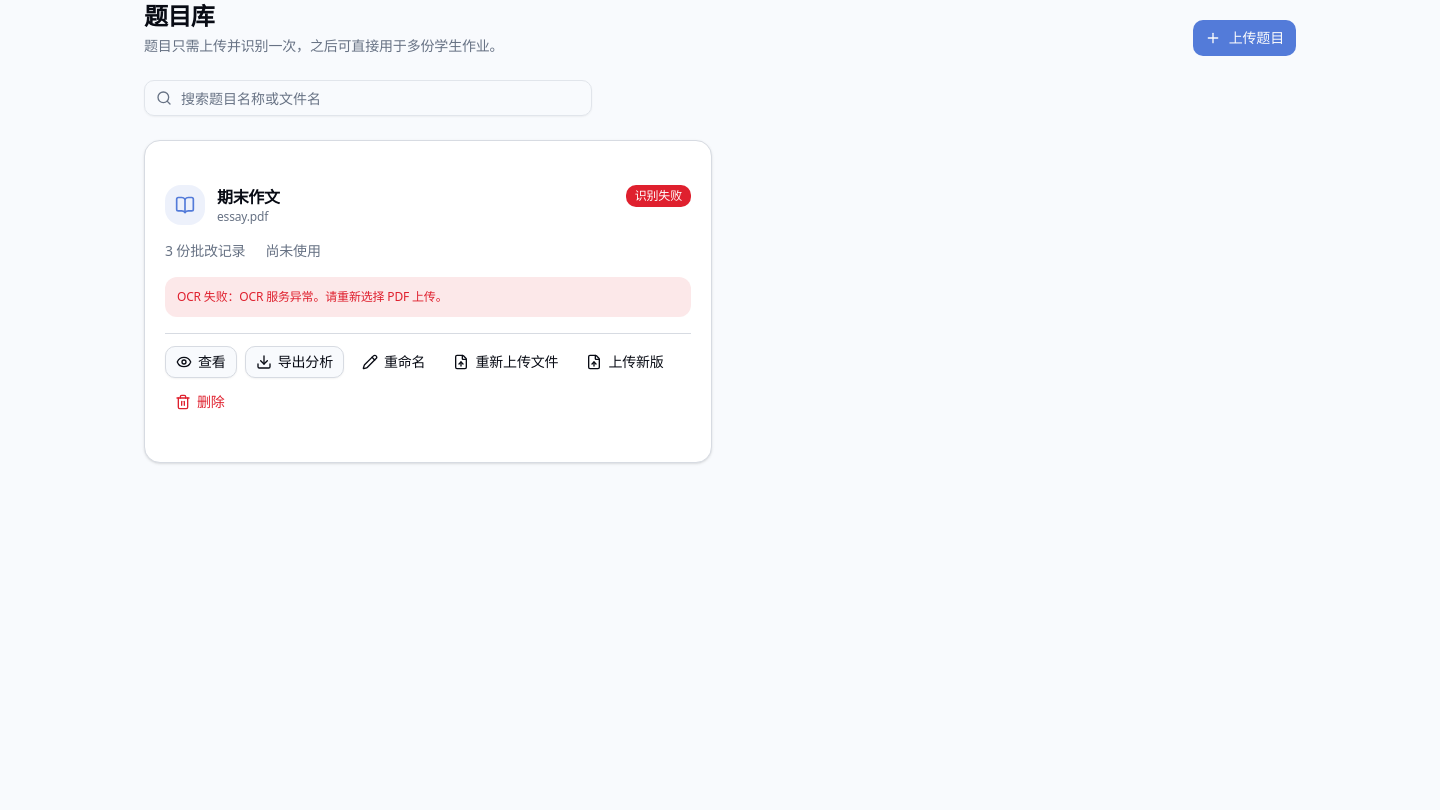
QuestionsPage › 拒绝超出范围的及格线
Click the button "导出分析" at [294, 362], box x1=245 y1=346 x2=344 y2=378
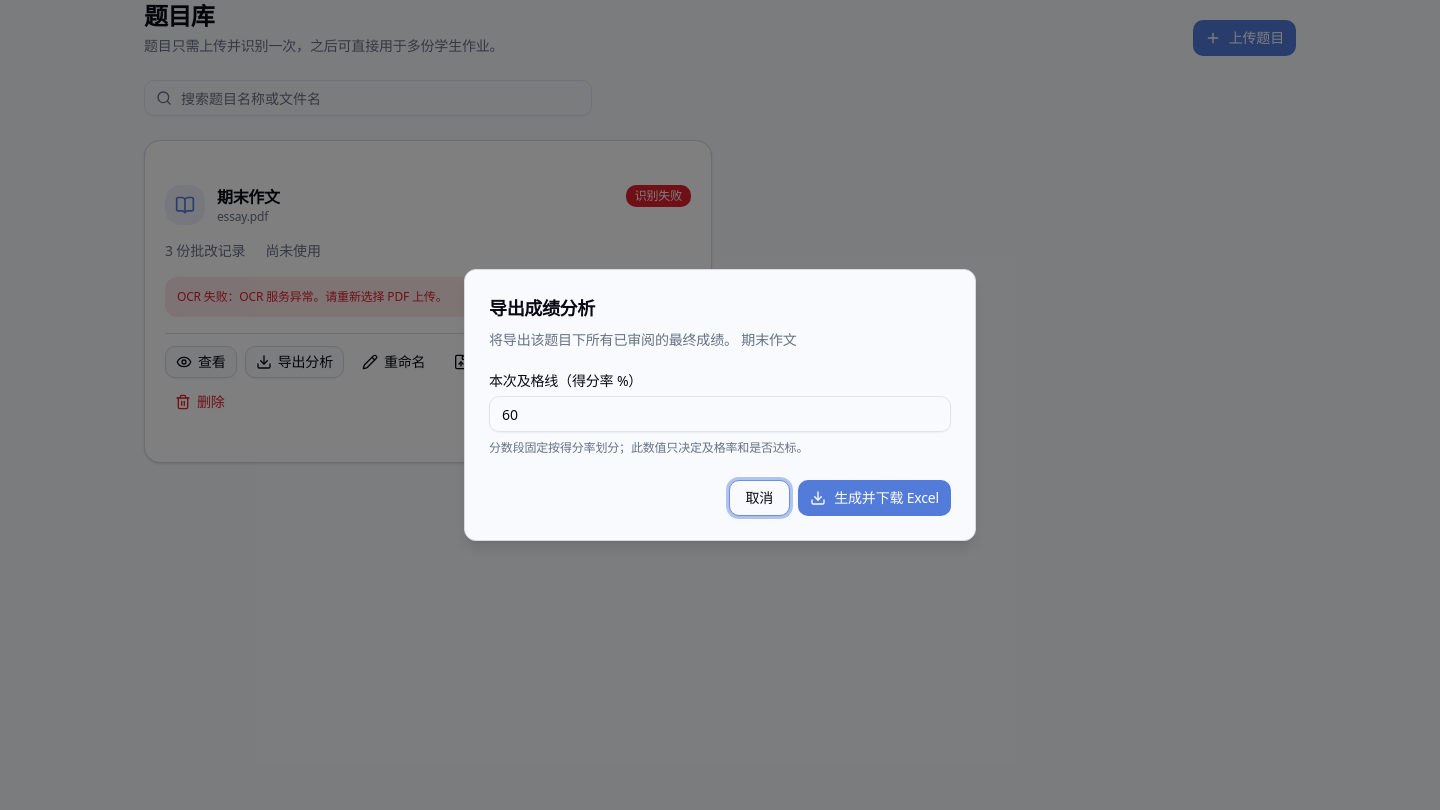
Replace the text in the number field labelled "本次及格线（得分率 %）" with "101" at [720, 414], box x1=489 y1=396 x2=951 y2=432
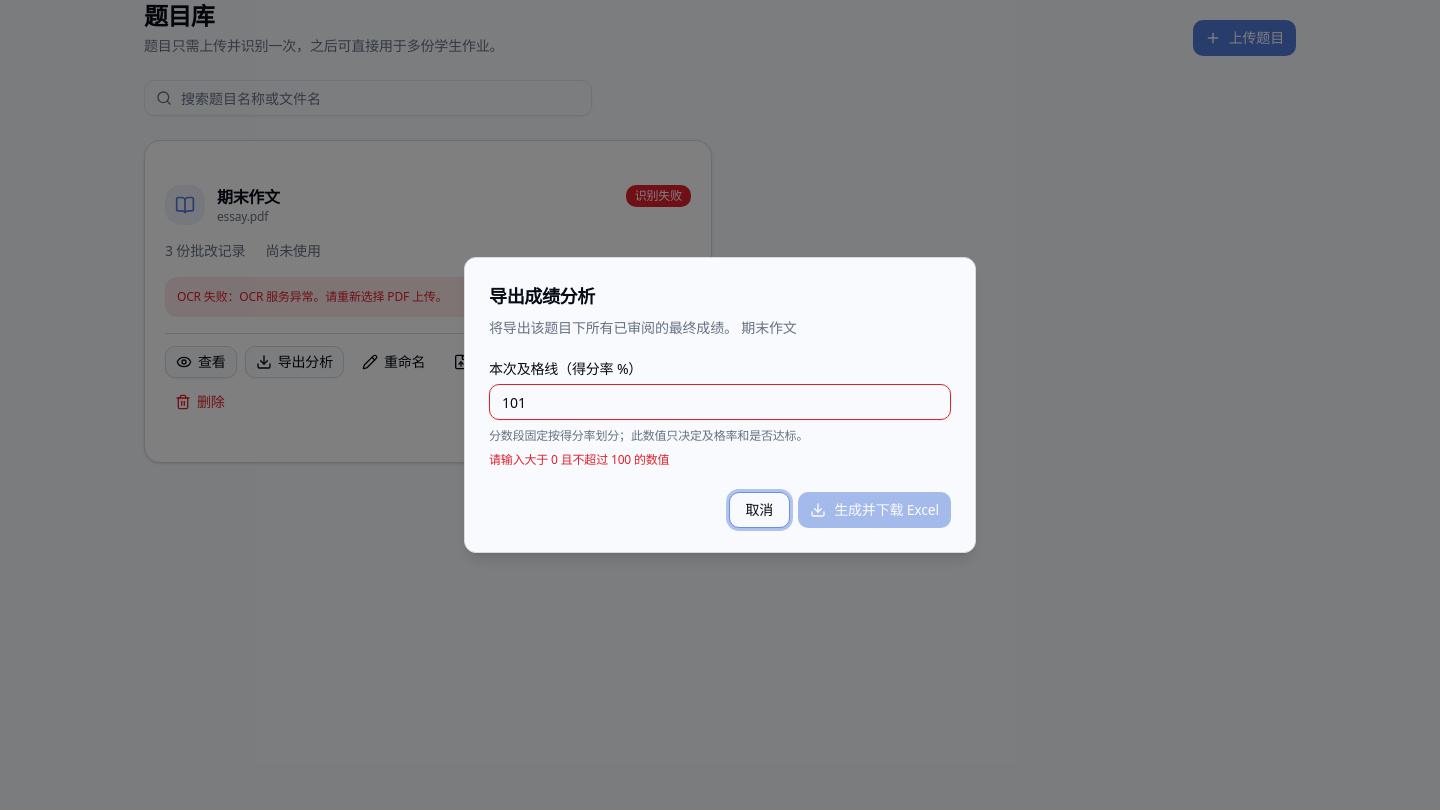
Result: the text "请输入大于 0 且不超过 100 的数值" is shown at x1=489 y1=451 x2=669 y2=468
Result: the button "生成并下载 Excel" is disabled at x1=798 y1=492 x2=951 y2=528
